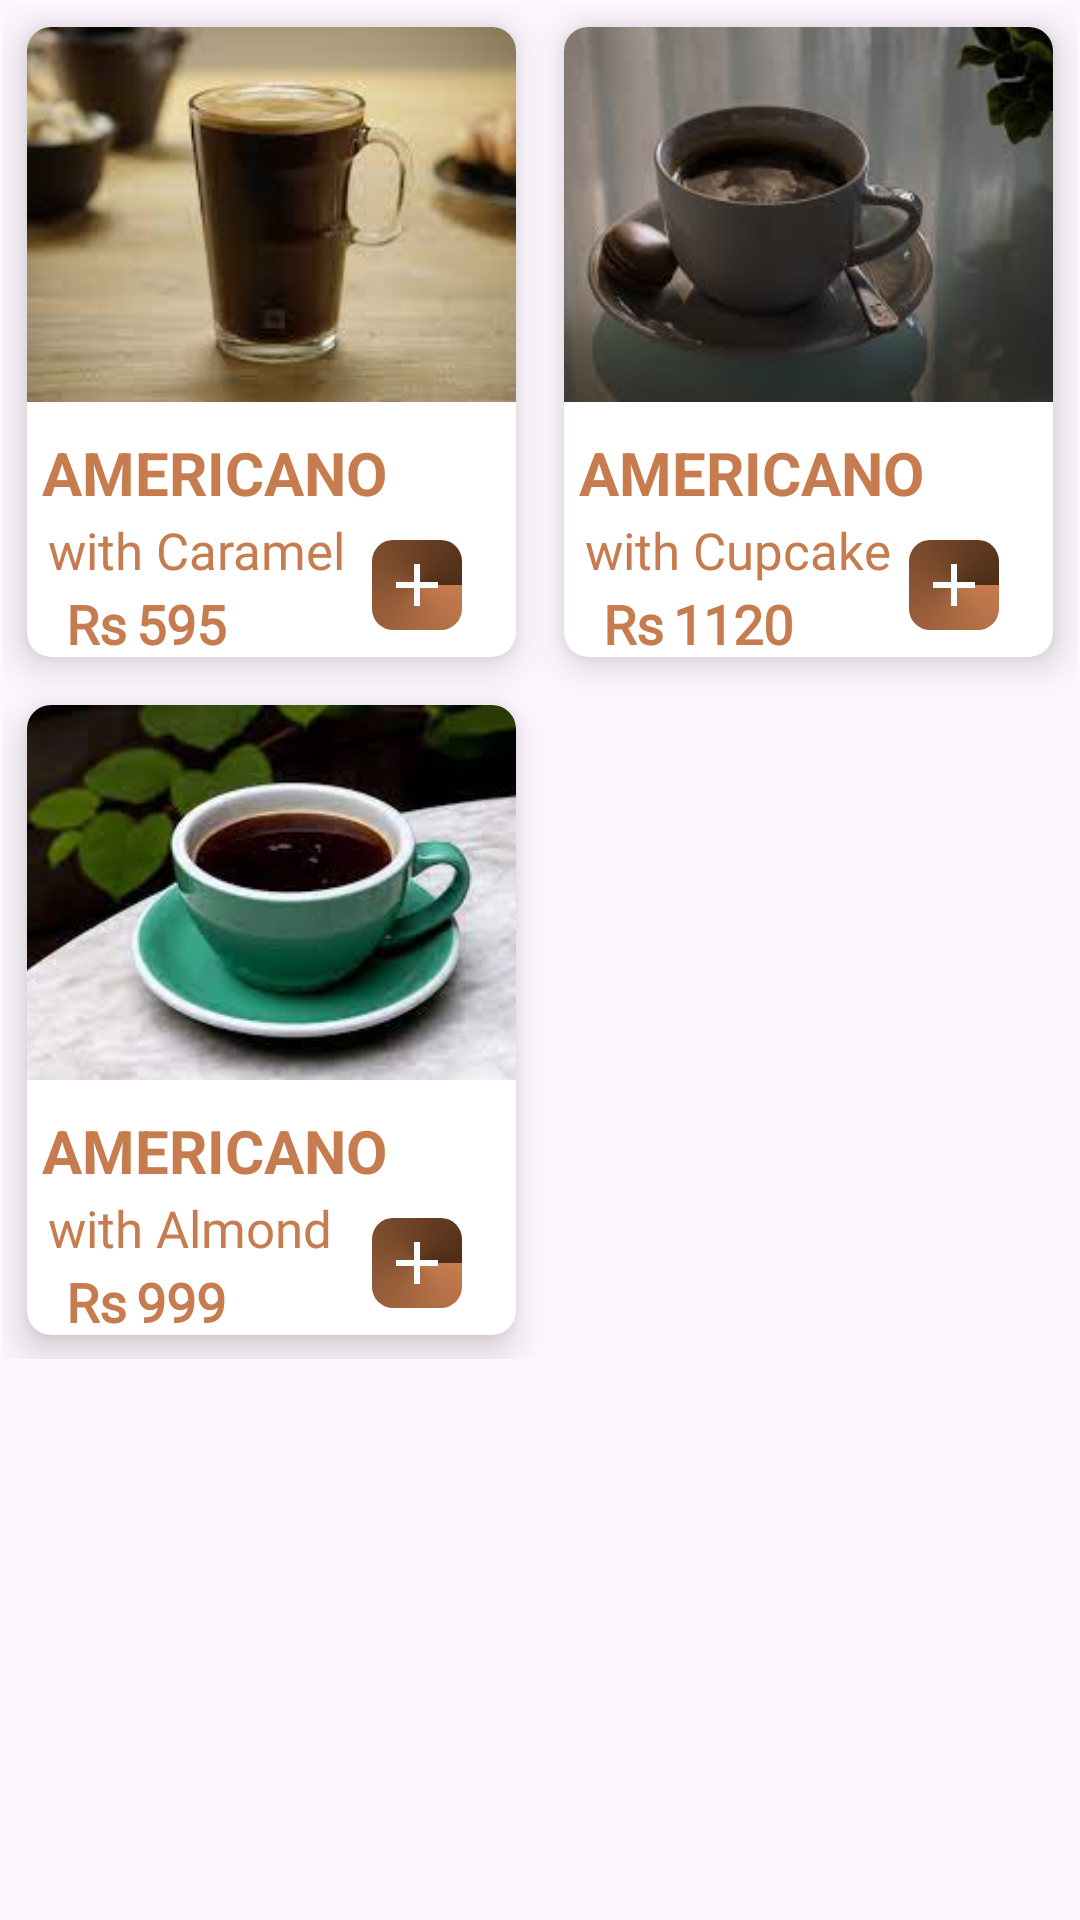

Icon bounding boxes for this 1080*1920 phone screenshot, format (x1, y1, x2, y2):
add: (372, 540, 462, 630), (909, 540, 999, 630), (372, 1218, 462, 1308)
